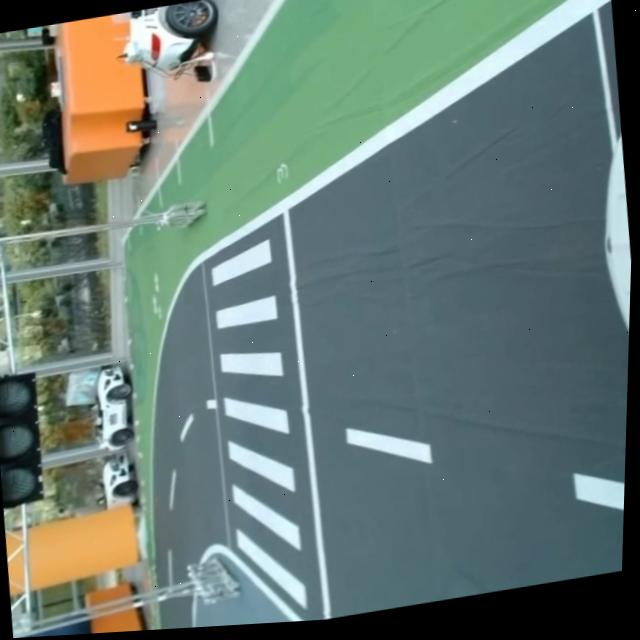traffic-light: (0, 362, 52, 513)
